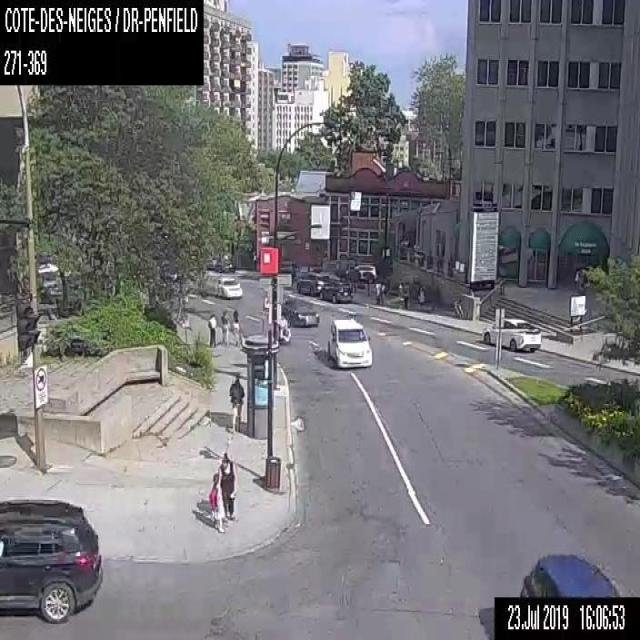pedestrian: (218, 452, 236, 520), (209, 472, 225, 533), (228, 371, 242, 432), (230, 309, 240, 346), (220, 309, 230, 346), (208, 312, 216, 345), (374, 279, 381, 304), (379, 280, 385, 305)
vehicle: (0, 496, 104, 624), (516, 552, 622, 597), (326, 317, 372, 368), (482, 316, 541, 352), (280, 296, 319, 325), (296, 270, 328, 296), (319, 278, 352, 302), (216, 276, 243, 299), (354, 264, 377, 282), (212, 255, 235, 271)
